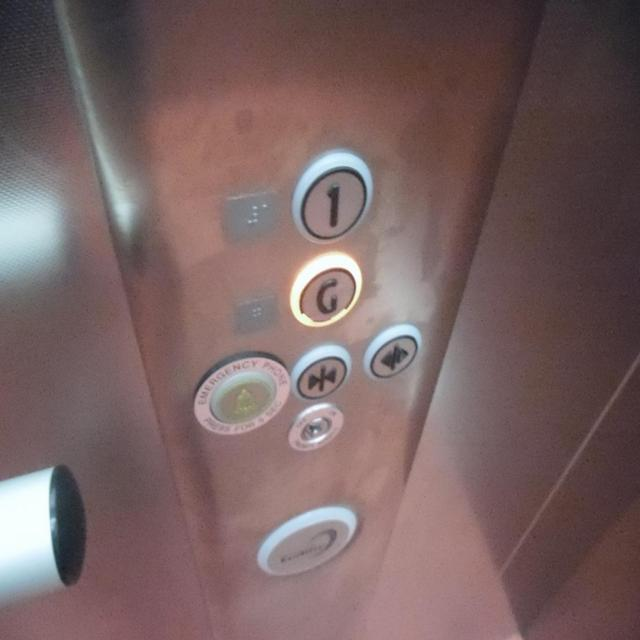1: (289, 147, 374, 245)
G: (288, 248, 364, 329)
alarm: (191, 349, 290, 435)
close: (289, 341, 352, 402)
keyhole: (286, 401, 345, 452)
open: (361, 321, 422, 383)
unknown: (254, 502, 364, 578)
